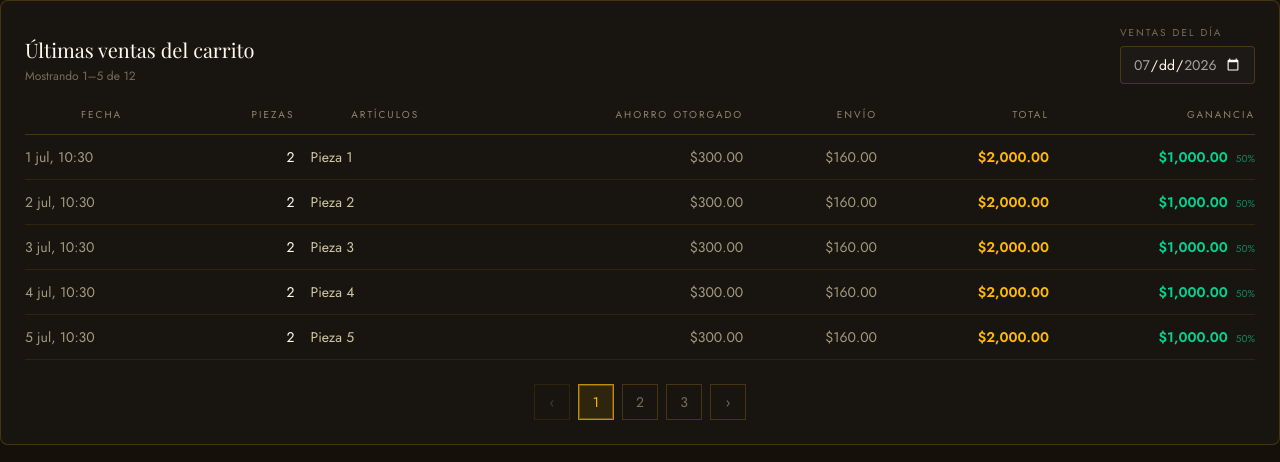
Scenario: SalesTable › pagina de cinco en cinco y la última página trae el resto
expect the text "Pieza 1" is shown: met, box 310,135 -> 476,180
expect the text "Pieza 6" is not shown: met
Click the button named "Página 2".
click(640, 402)  # box 622,384 -> 658,420
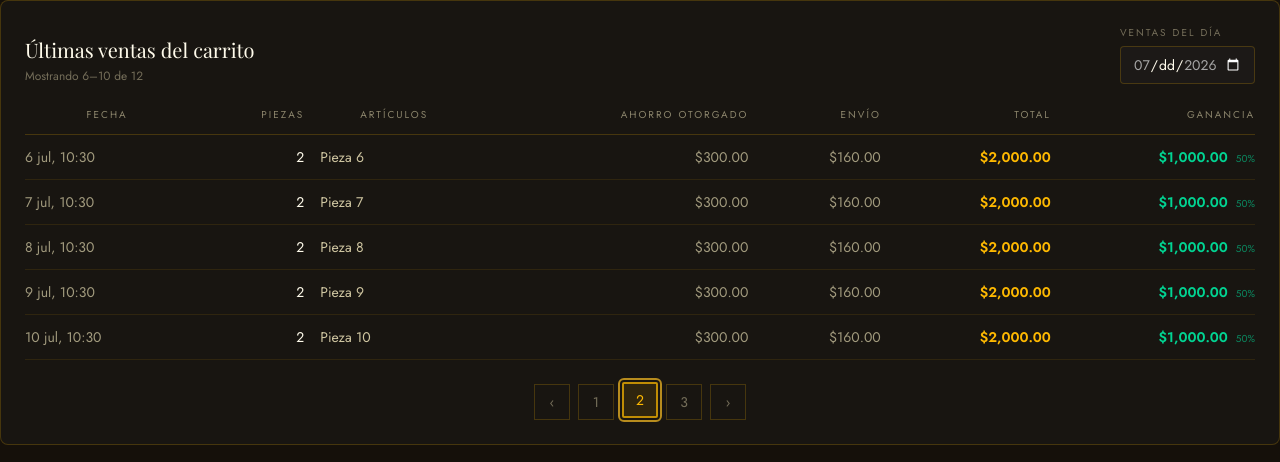
expect the text "Mostrando 6–10 de 12" is shown: met, box 25,67 -> 143,85
expect the text "Pieza 6" is shown: met, box 320,135 -> 484,180
Click the button named "Página 3".
click(684, 402)  # box 666,384 -> 702,420
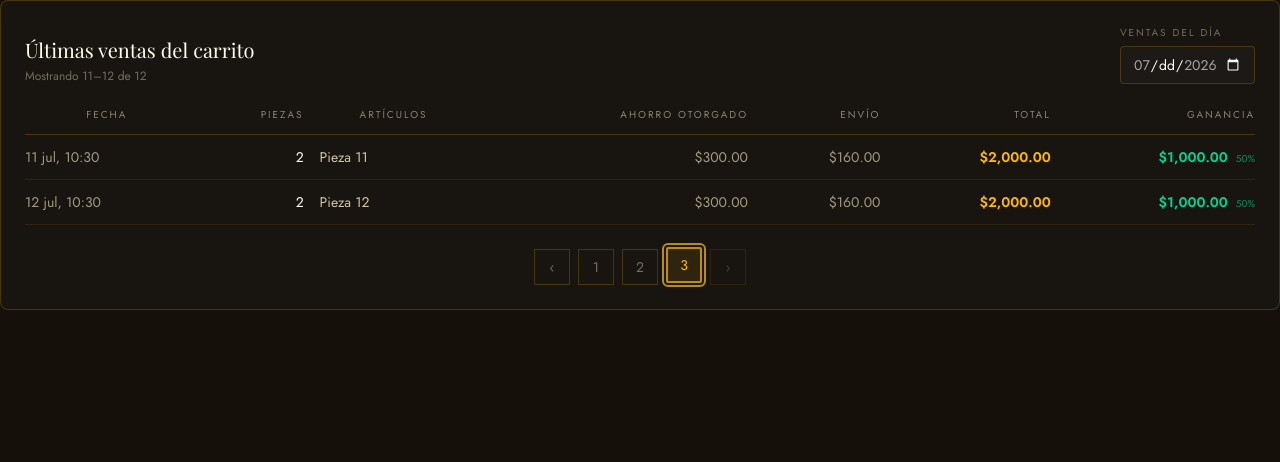
expect the text "Mostrando 11–12 de 12" is shown: met, box 25,67 -> 146,85
expect the text "Pieza 12" is shown: met, box 320,180 -> 484,225
